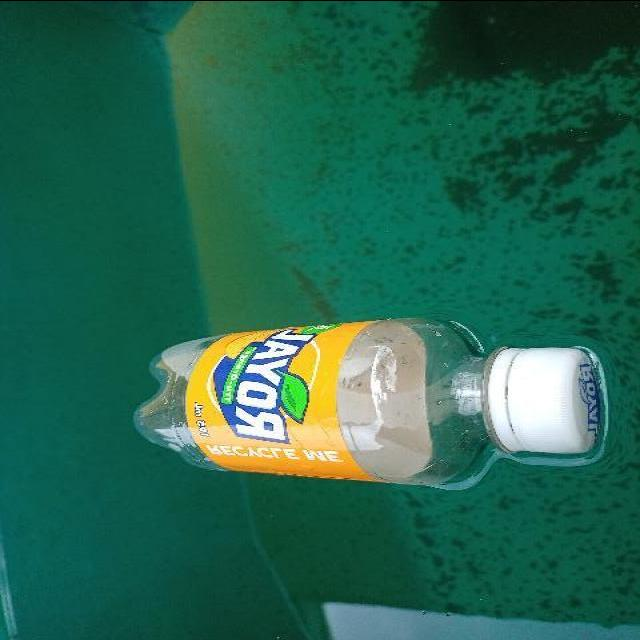Bottle: (128, 311, 617, 498)
